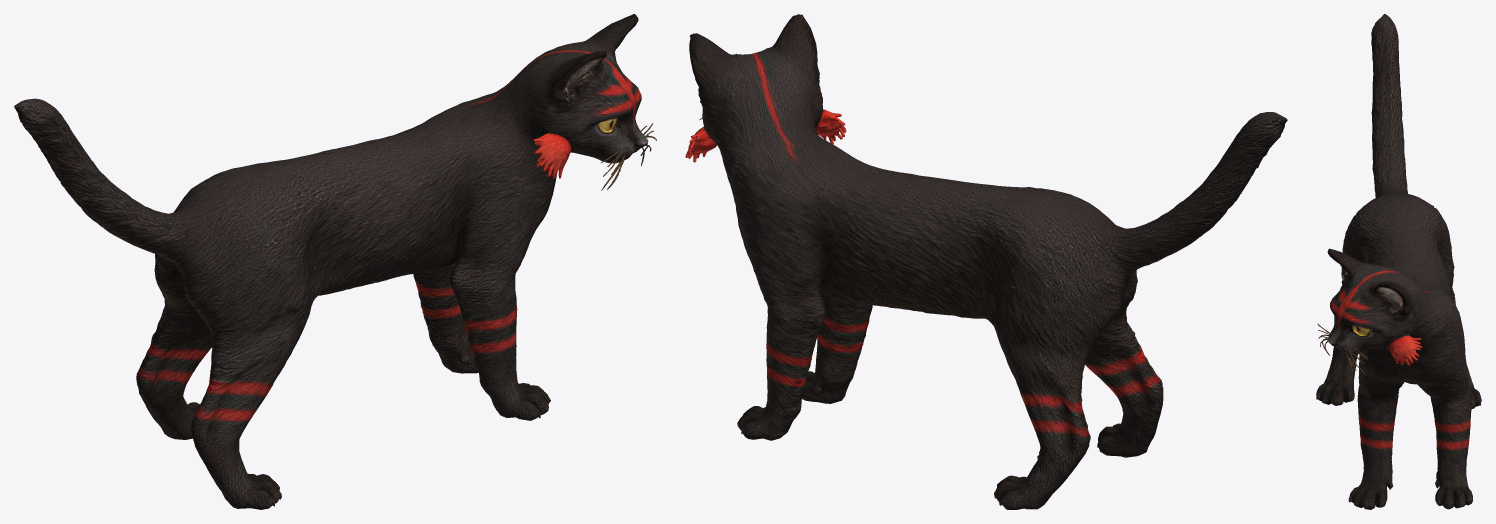
File: LITTENCAT.glb
3 renders of one model, left to right at view 1: azimuth 30°, elevation 25°; view 2: azimuth 150°, elevation 25°; view 3: azimuth 270°, elevation 25°, orthographic. The views are drawn at different scales.
Parts seen in each view (by area): view 1: tripo_node_e20f8500-da49-403c-a97d-d5f32df191e2; view 2: tripo_node_e20f8500-da49-403c-a97d-d5f32df191e2; view 3: tripo_node_e20f8500-da49-403c-a97d-d5f32df191e2.
Part boxes in pixels (x1,y1,x2,y2): tripo_node_e20f8500-da49-403c-a97d-d5f32df191e2: (14, 14, 656, 509); tripo_node_e20f8500-da49-403c-a97d-d5f32df191e2: (685, 14, 1287, 509); tripo_node_e20f8500-da49-403c-a97d-d5f32df191e2: (1316, 14, 1481, 509).
Bounding box in the file's own units: 1.54 × 1 × 0.4781.
Materials: 1 (1 with a texture image).
